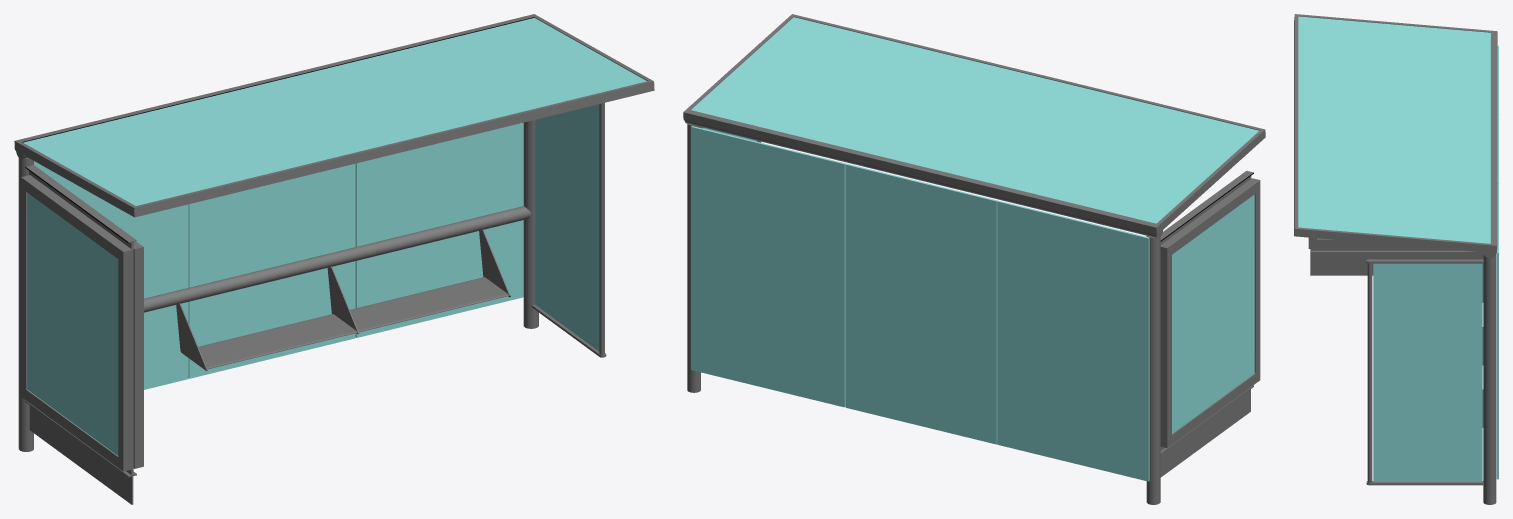
Rendered from ParkPontoOnibus.fbx.
3 renders of one model, left to right at view 1: azimuth 30°, elevation 25°; view 2: azimuth 150°, elevation 25°; view 3: azimuth 270°, elevation 25°, orthographic. The views are drawn at different scales.
Parts seen in each view (by area): view 1: ParkPontoOnibus; view 2: ParkPontoOnibus; view 3: ParkPontoOnibus.
Part boxes in pixels (<box>): ParkPontoOnibus: <box>14,14,654,504</box>; ParkPontoOnibus: <box>683,14,1265,504</box>; ParkPontoOnibus: <box>1294,14,1498,504</box>.
Size of the model in its own units: 774 by 463 by 311.
Materials: 1 (1 with a texture image).
